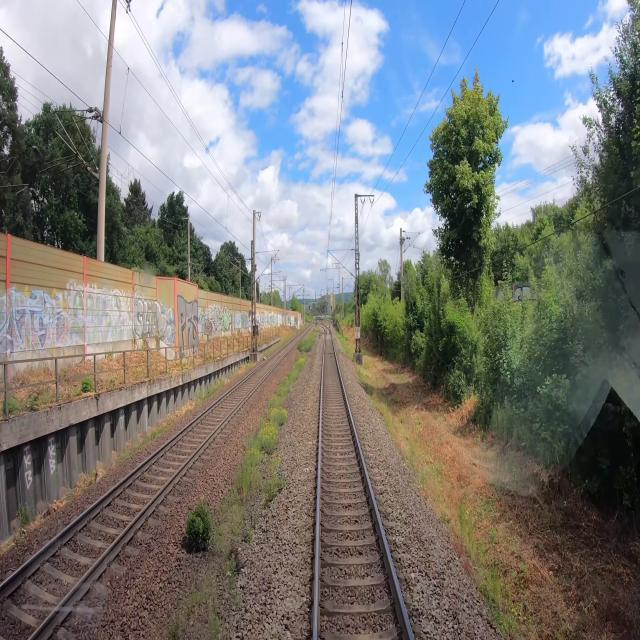Plant: (214, 356, 306, 589), (168, 575, 218, 639), (186, 500, 213, 550), (297, 326, 319, 351), (208, 613, 224, 639)
